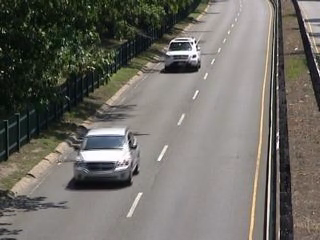car: (71, 123, 143, 187), (161, 34, 205, 74)
